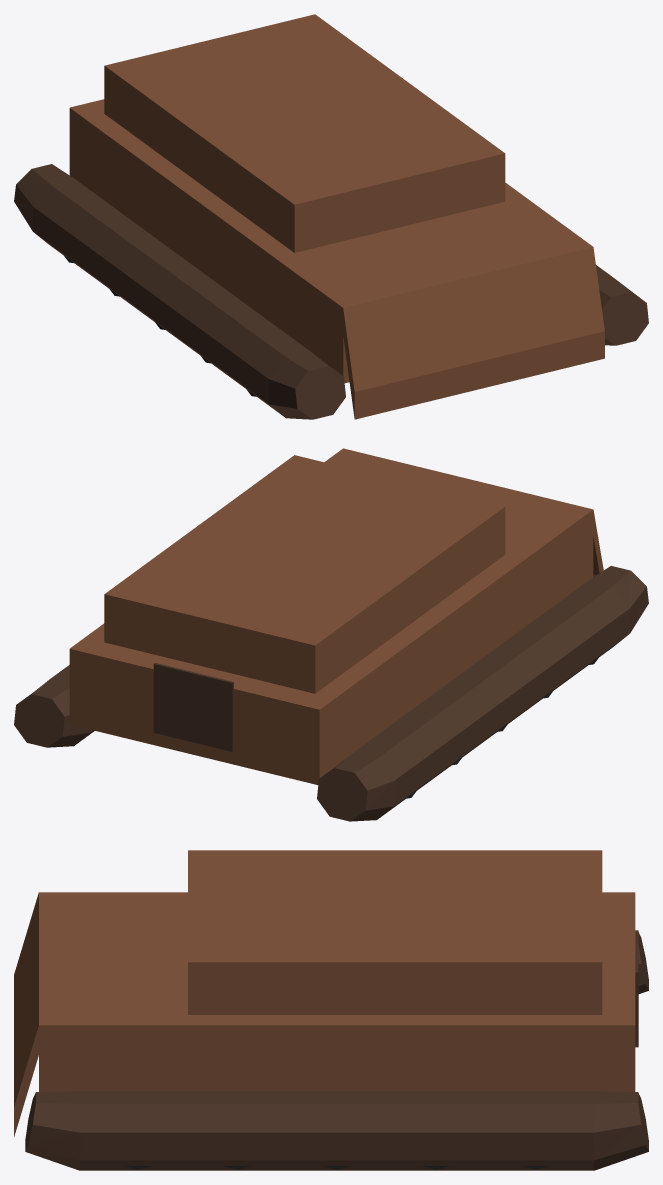
Rendered from wreck_apc.obj.
3 renders of one model, top to bottom at view 1: azimuth 30°, elevation 25°; view 2: azimuth 150°, elevation 25°; view 3: azimuth 270°, elevation 25°, orthographic. The views are drawn at different scales.
Parts seen in each view (by area): view 1: wreck_apc; view 2: wreck_apc; view 3: wreck_apc.
Part boxes in pixels (x1,y1,x2,y2): wreck_apc: [14, 14, 648, 419]; wreck_apc: [14, 448, 648, 821]; wreck_apc: [14, 850, 648, 1170].
Bounding box in the file's own units: 2.74 × 1.18 × 3.83.
